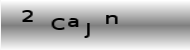2: (20, 9, 33, 23)
C: (49, 16, 65, 31)
J: (82, 22, 91, 39)
a: (66, 17, 78, 28)
n: (103, 13, 118, 26)
